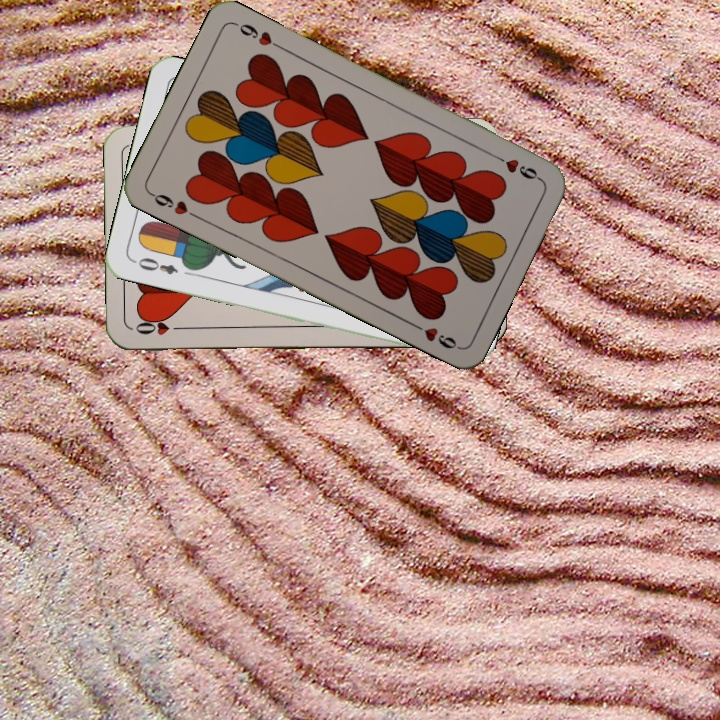EO: (129, 253, 181, 278)
H9: (489, 150, 544, 184), (146, 188, 201, 221)
HO: (131, 316, 190, 338)
